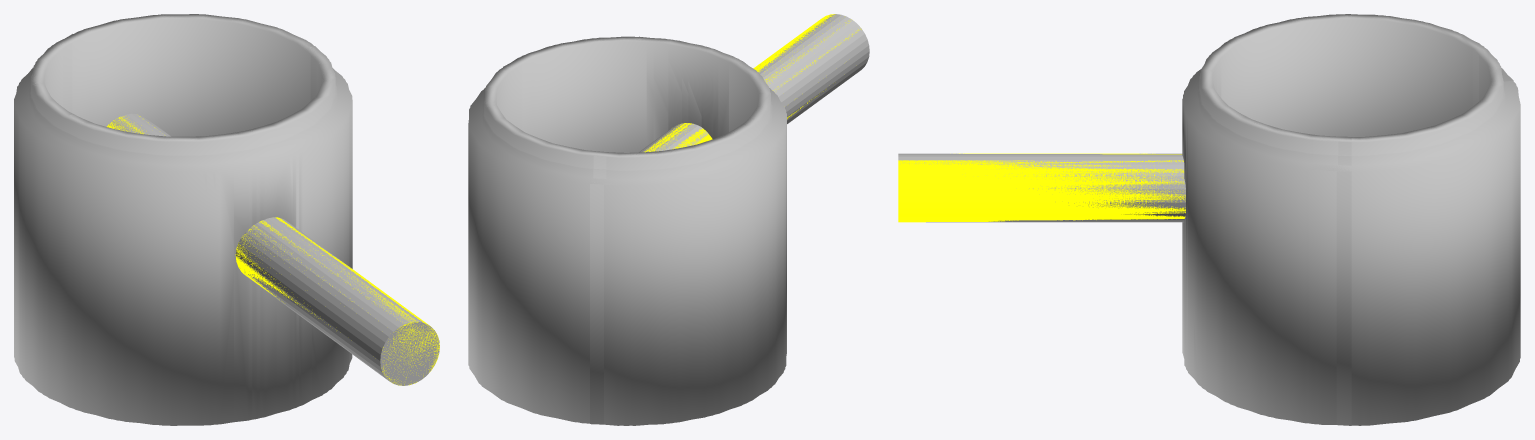
File: LOT134c_756c3930.glb
3 views of the same model, side by side, from view 1: azimuth 30°, elevation 25°; view 2: azimuth 150°, elevation 25°; view 3: azimuth 270°, elevation 25° (orthographic). The views are drawn at different scales.
Visible parts, largest first — view 1: item, cutter_h0.800_a270.0; view 2: item, cutter_h0.800_a270.0; view 3: item, cutter_h0.800_a270.0.
Part boxes in pixels (<box>): item: <box>14,14,439,425</box>; cutter_h0.800_a270.0: <box>107,116,439,385</box>; item: <box>468,14,869,425</box>; cutter_h0.800_a270.0: <box>644,14,861,152</box>; item: <box>898,14,1520,425</box>; cutter_h0.800_a270.0: <box>898,153,1185,222</box>.
Bounding box in the file's own units: 1.47 × 1.33 × 2.71.
